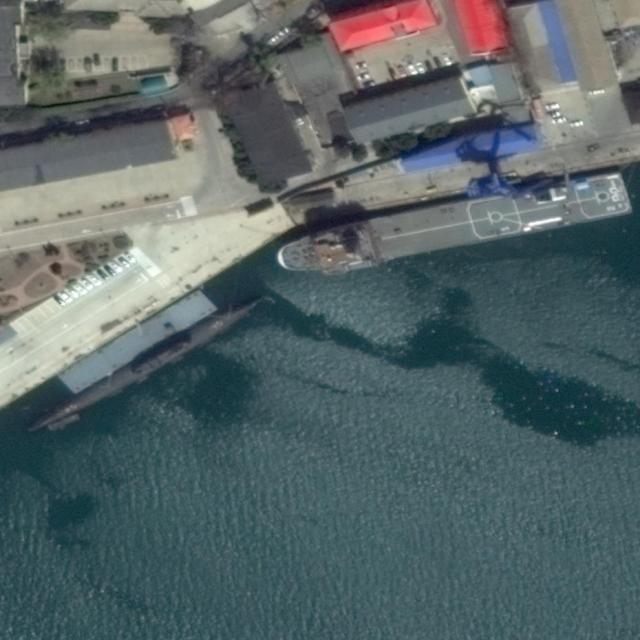Other Warship: (273, 172, 630, 284)
Submarine: (21, 284, 279, 449)
